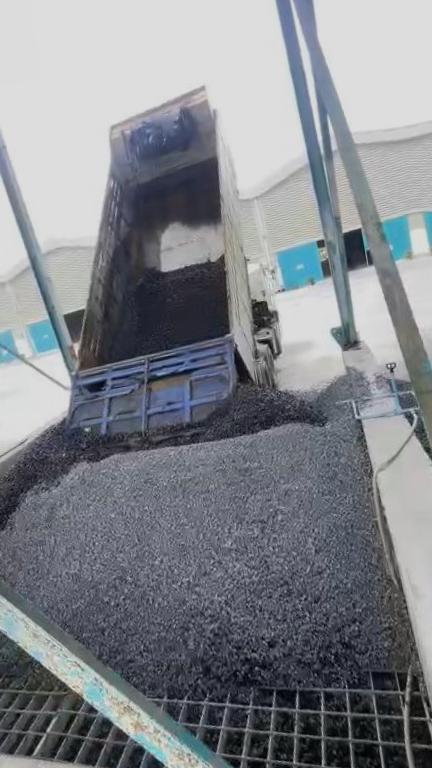gravel: (0, 361, 409, 697), (100, 257, 229, 363), (0, 614, 33, 674)
